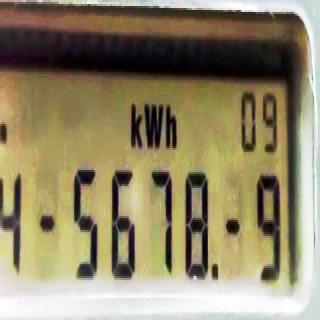-: (39, 197, 59, 244), (226, 207, 240, 242), (0, 114, 7, 150), (212, 257, 219, 287)
0: (240, 79, 257, 167)
4: (0, 160, 24, 287)
5: (71, 159, 99, 292)
6: (107, 159, 138, 292)
7: (150, 157, 176, 282)
8: (182, 162, 210, 292)
9: (255, 165, 282, 294), (261, 84, 280, 162)
